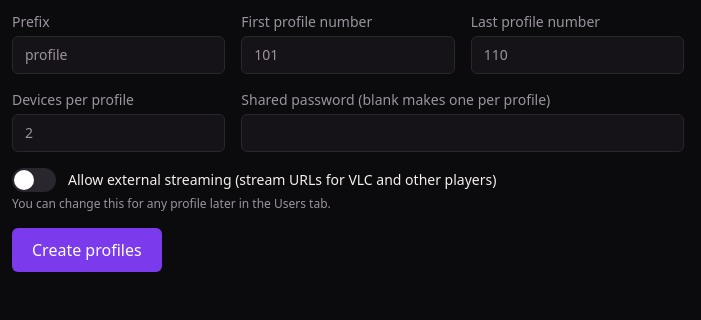
Test: RoomsTab (Profiles) › shows the server's error and enables the button again
This screenshot has width=701, height=320.
Click the button "Create profiles".
click(87, 250)  # box [12, 228, 162, 272]
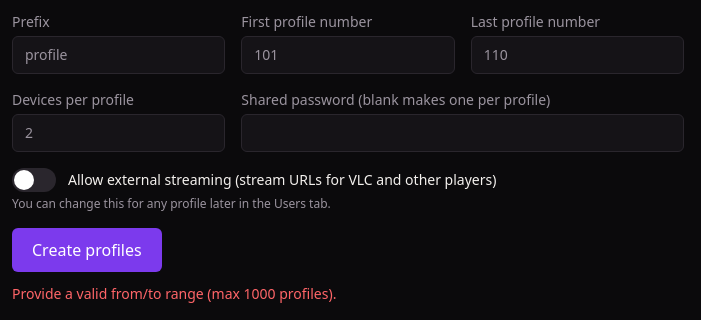
Expected: the message shows "max 1000 profiles", [12, 284, 336, 303]
